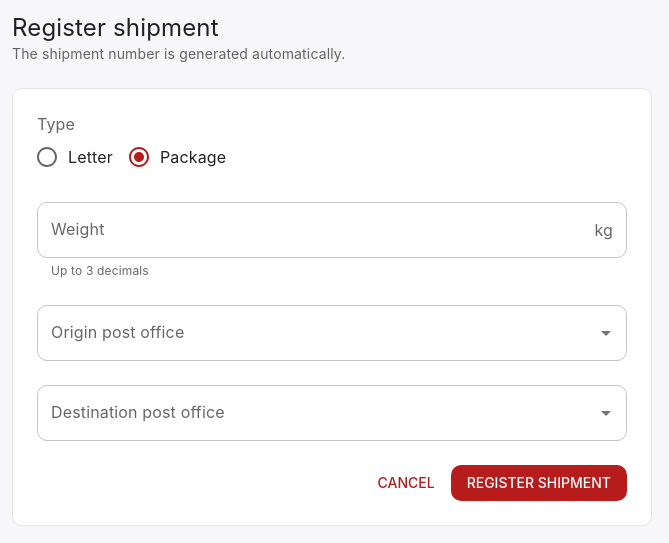
Scenario: ShipmentFormPage › submits with an Idempotency-Key and shows the live weight category
Later steps or results of the test are not shown.
In the number field labelled "Weight": (312, 230) 37,202 -> 586,258, type "7.5"
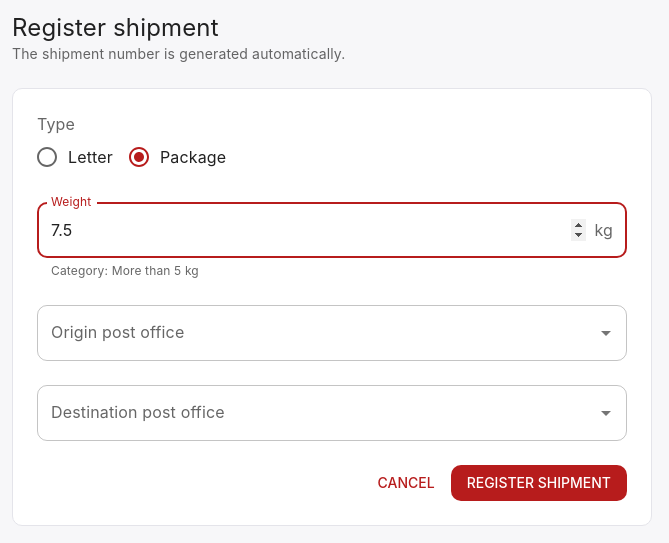
Expected: the text "Category: More than 5 kg" is shown, 51,263 -> 199,278
